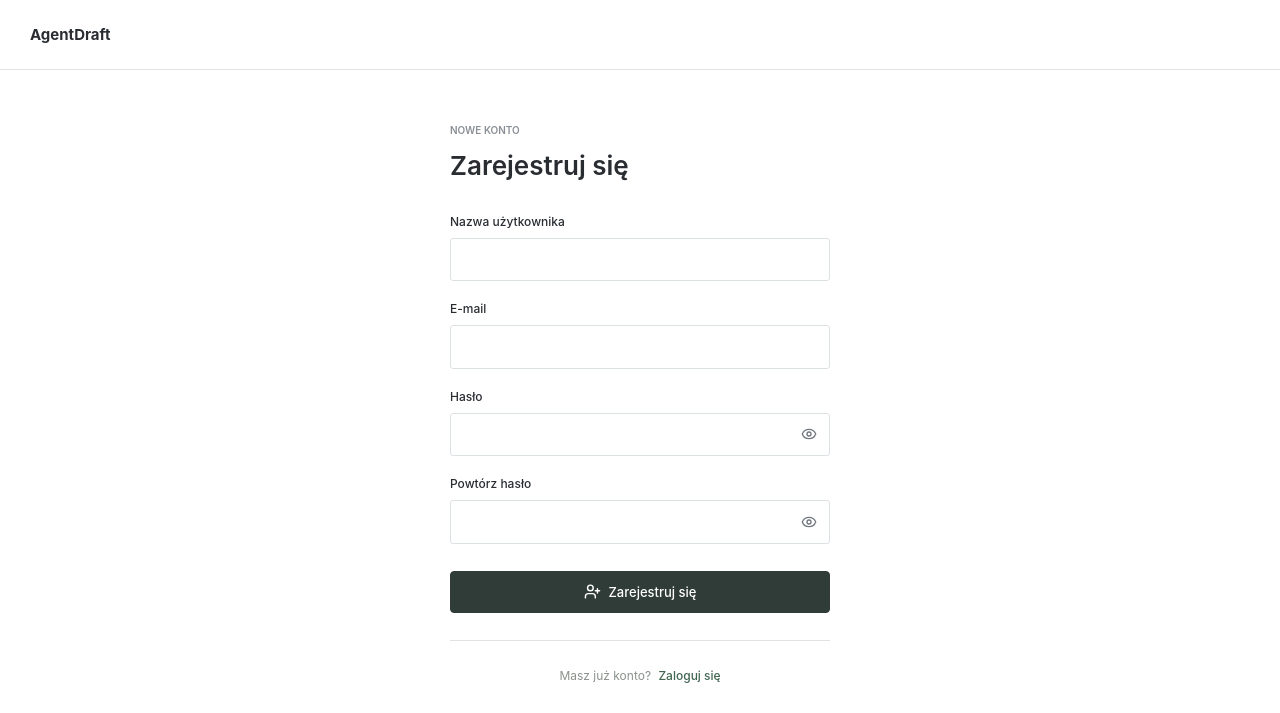
Test case: authentication forms connected to the API › checks password confirmation before registration and explains a conflicting email
Type "writer1" into the field labelled "Nazwa użytkownika" at (640, 260), box left=450, top=238, right=830, bottom=281
Type "writer1@example.com" into the field labelled "E-mail" at (640, 347), box left=450, top=325, right=830, bottom=369
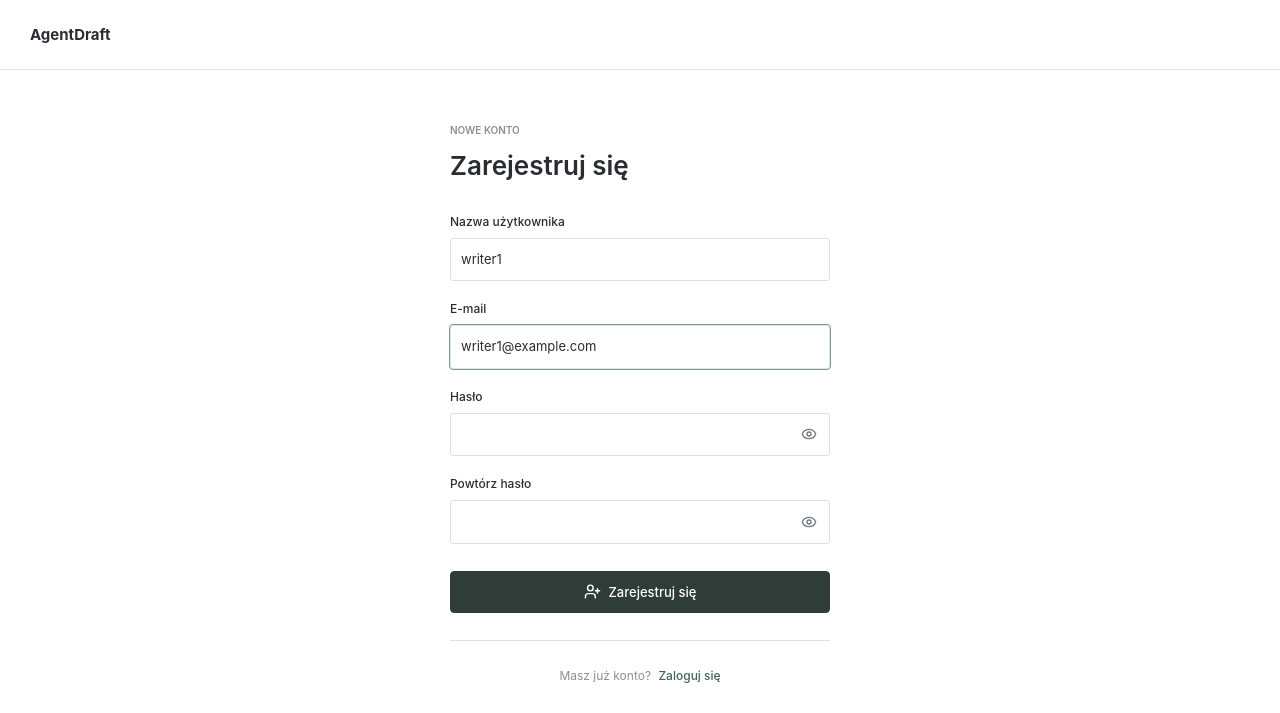
Type "test-password" into the password field labelled "Hasło" at (640, 434), box left=450, top=413, right=830, bottom=456
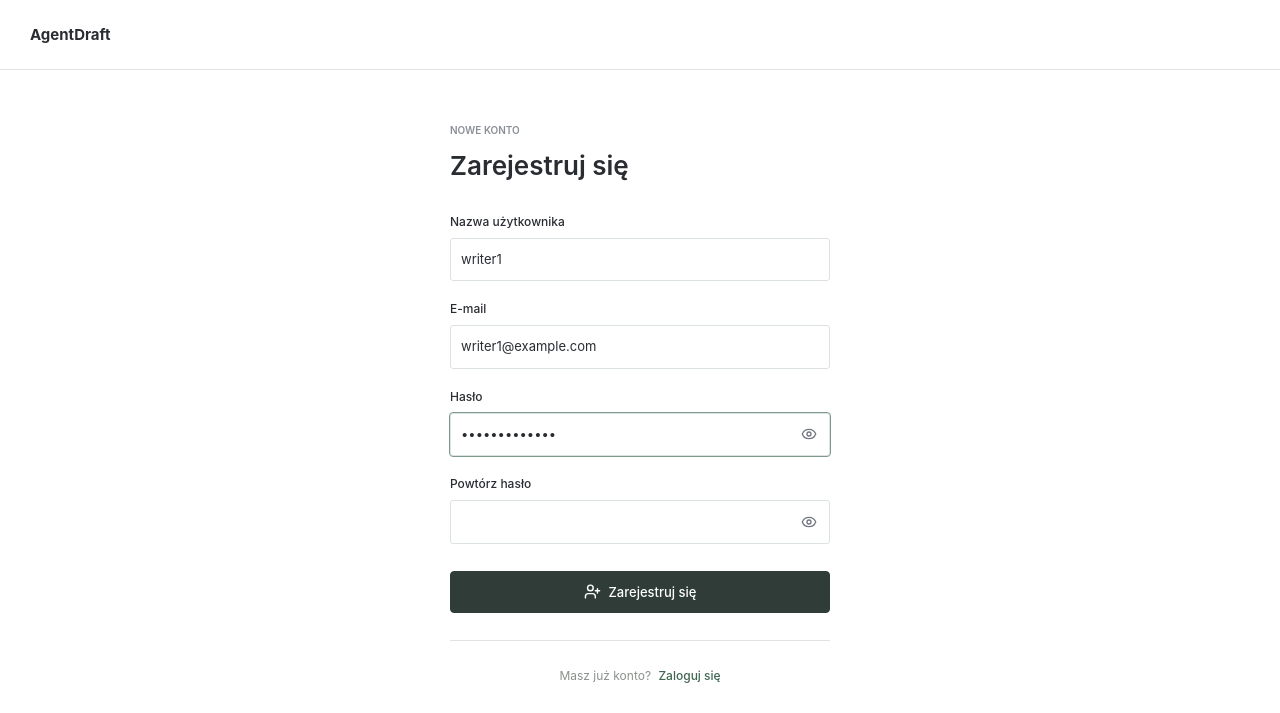
Type "mismatch" into the password field labelled "Powtórz hasło" at (640, 522), box left=450, top=500, right=830, bottom=544
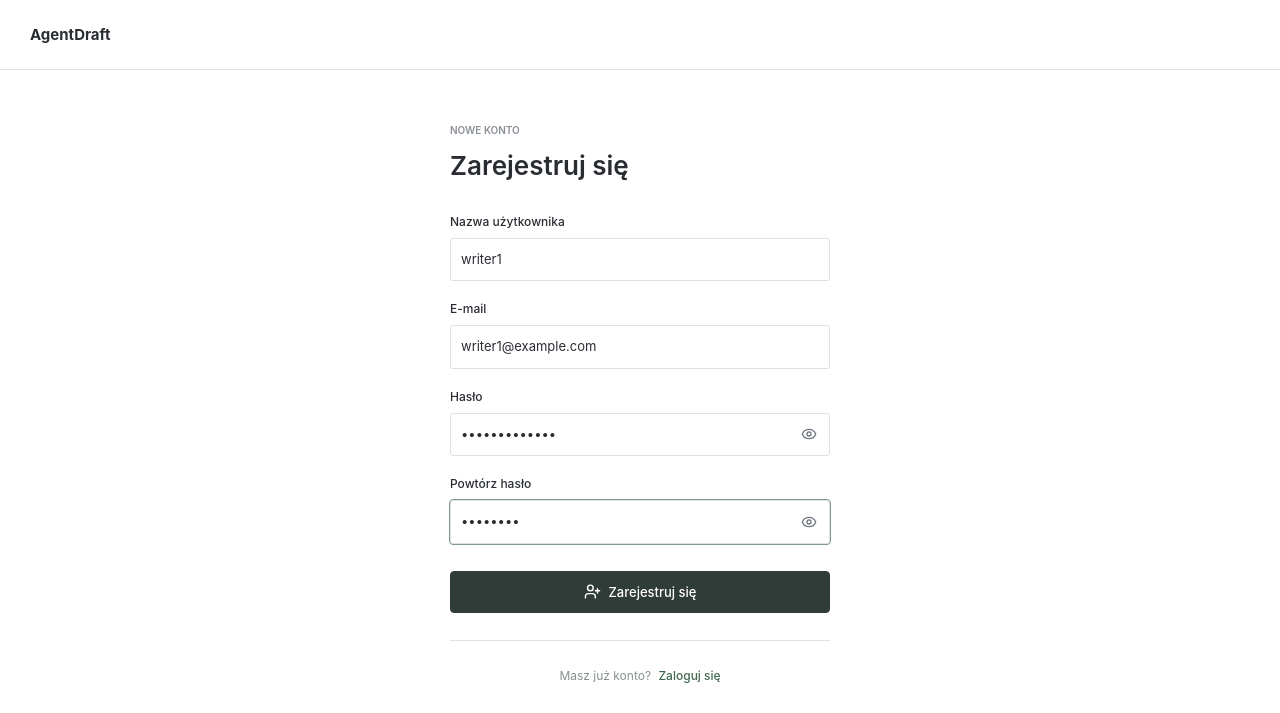
Click the button "Zarejestruj się" at (640, 592), box left=450, top=570, right=830, bottom=612
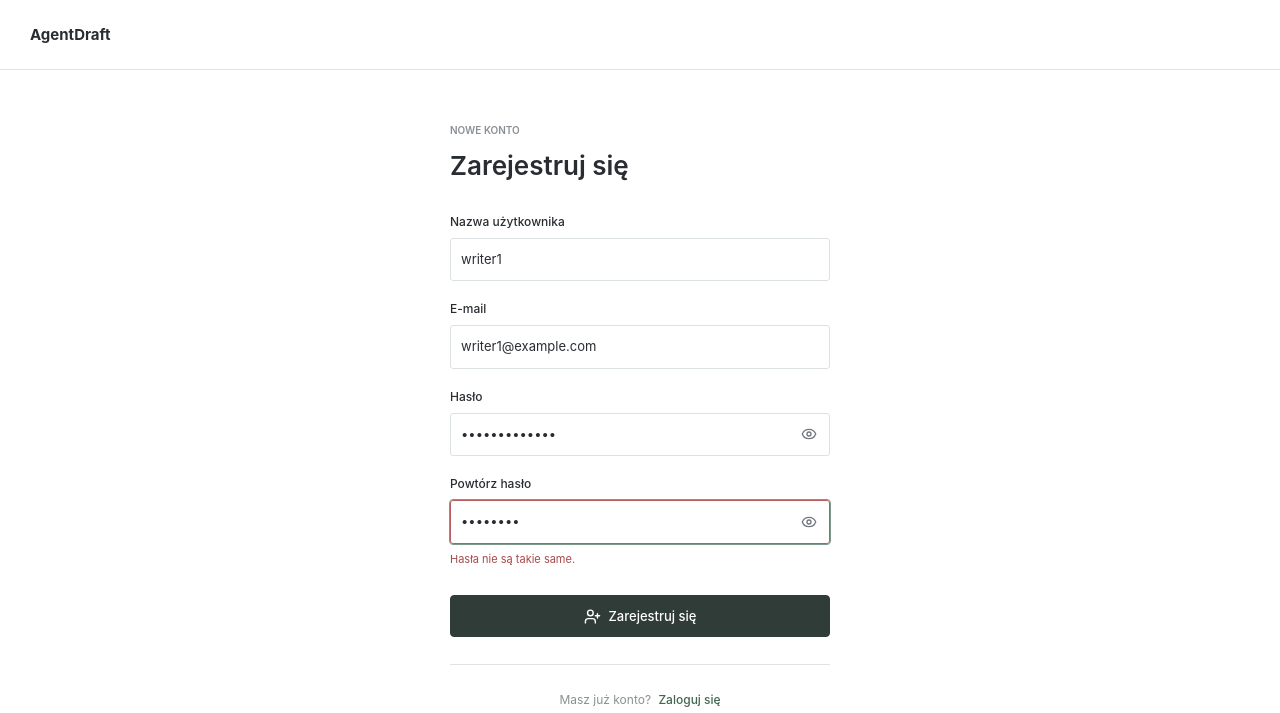
Expected: the message reads "Hasła nie są takie same.", left=450, top=552, right=575, bottom=566
Type "test-password" into the password field labelled "Powtórz hasło" at (640, 522), box left=450, top=500, right=830, bottom=544
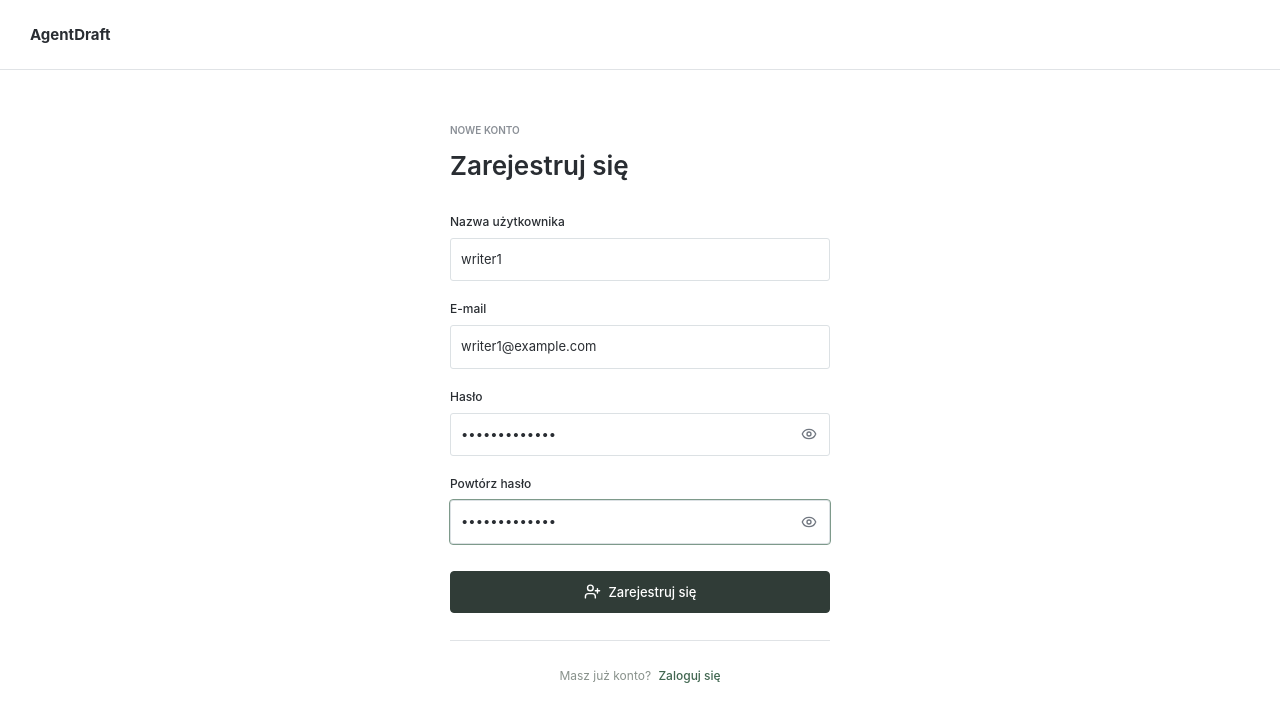
Click the button "Zarejestruj się" at (640, 592), box left=450, top=570, right=830, bottom=612
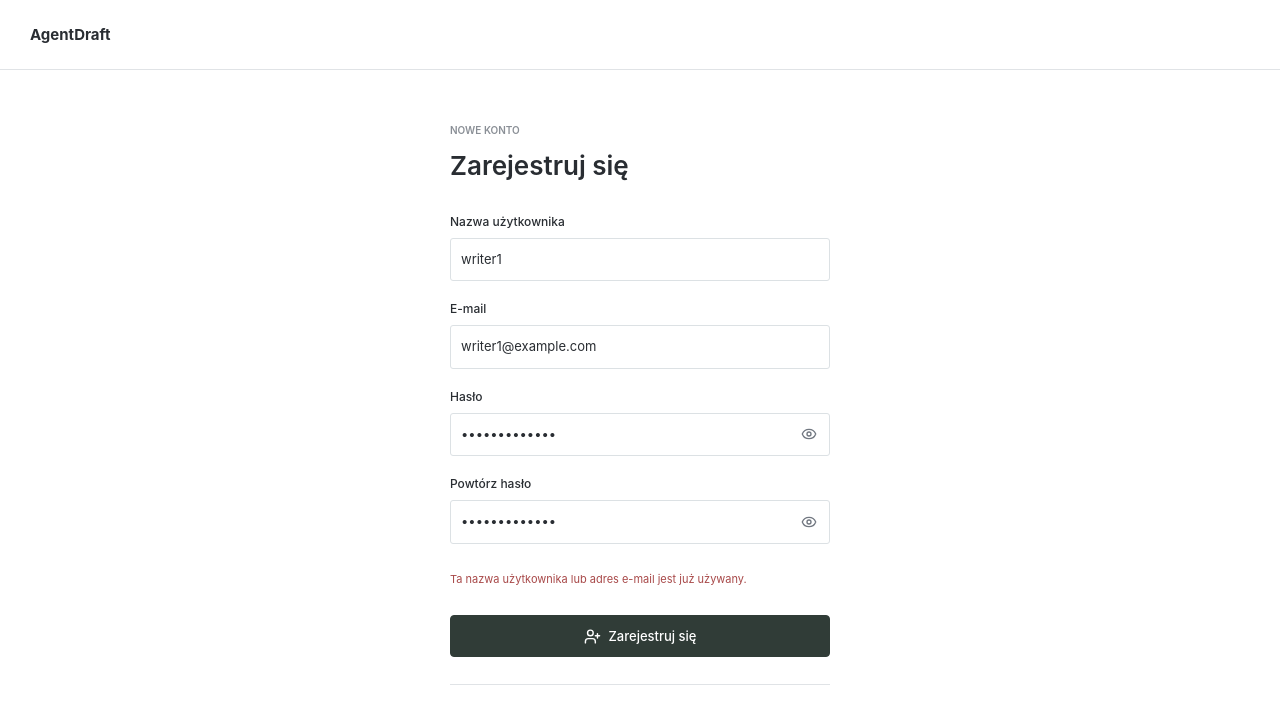
Expected: the message reads "Ta nazwa użytkownika lub adres e-mail jest już używany.", left=450, top=572, right=747, bottom=586
